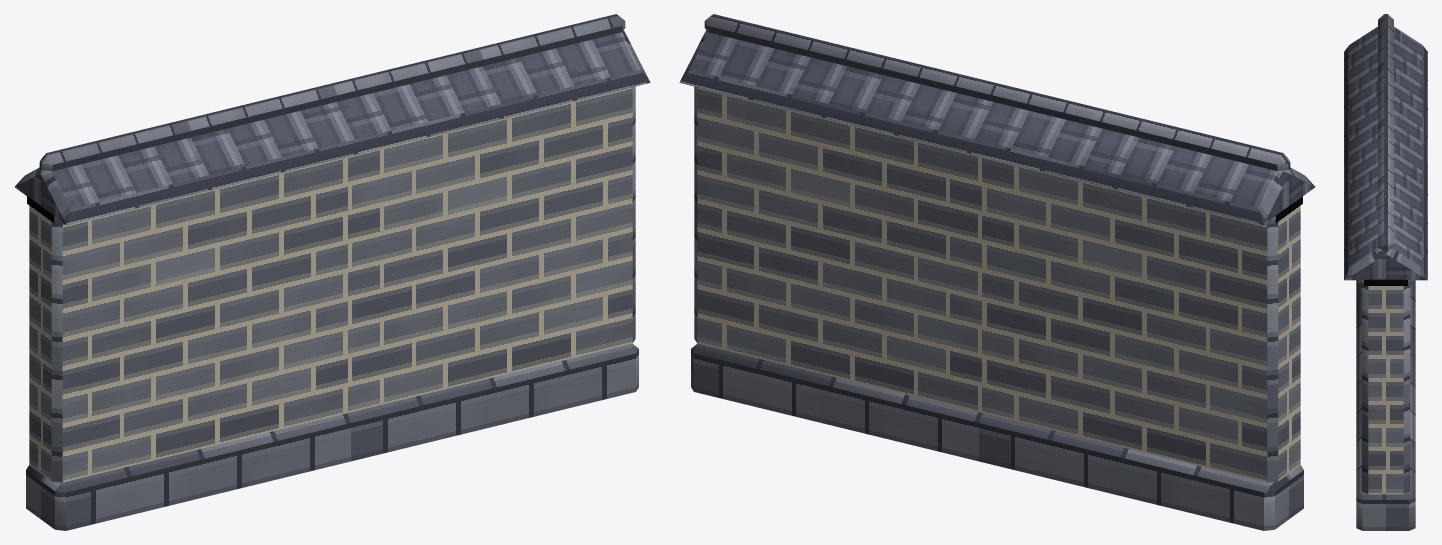
Rendered from cn_courtyard_wall_1.glb.
3 views of the same model, side by side, from view 1: azimuth 30°, elevation 25°; view 2: azimuth 150°, elevation 25°; view 3: azimuth 270°, elevation 25° (orthographic). The views are drawn at different scales.
Visible parts, largest first — view 1: cn_courtyard_wall_2; view 2: cn_courtyard_wall_2; view 3: cn_courtyard_wall_2.
Boxes of the visible parts, x1,y1,x2,y2 form: cn_courtyard_wall_2: (14, 14, 650, 530); cn_courtyard_wall_2: (679, 14, 1315, 530); cn_courtyard_wall_2: (1344, 14, 1427, 530).
Size of the model in its own units: 4 by 2.38 by 0.62.
4 materials, 4 textured.
